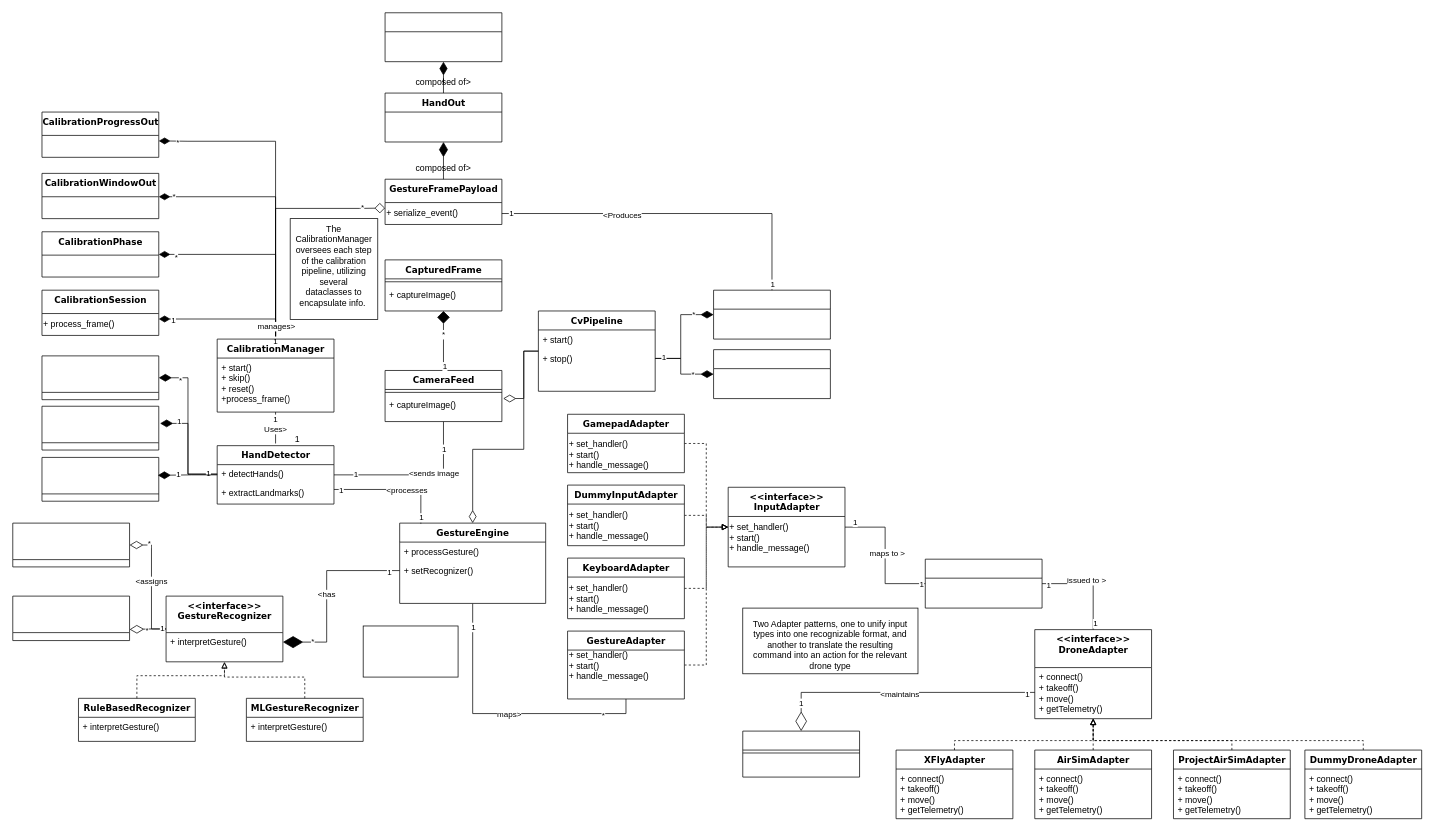
The diagram is 1434 pixels wide and 834 high, and some of its shapes have lost their labels. Each missing label, with the centre of its shape:
"Command" belongs at point 983,583.
"DetectedHand" belongs at point 100,428.
"DetectorConfig" belongs at point 100,479.
"FingerState" belongs at point 71,618.
"GestureResult" belongs at point 71,544.
"HandLandmark" belongs at point 100,377.
"LandmarkOut" belongs at point 443,37.
"PipelineConfig" belongs at point 771,374.
"PipelineEvent" belongs at point 771,314.
"Strategy pattern to dynamically choose which recognition method to use." belongs at point 410,651.
"TelemetryData" belongs at point 801,753.
